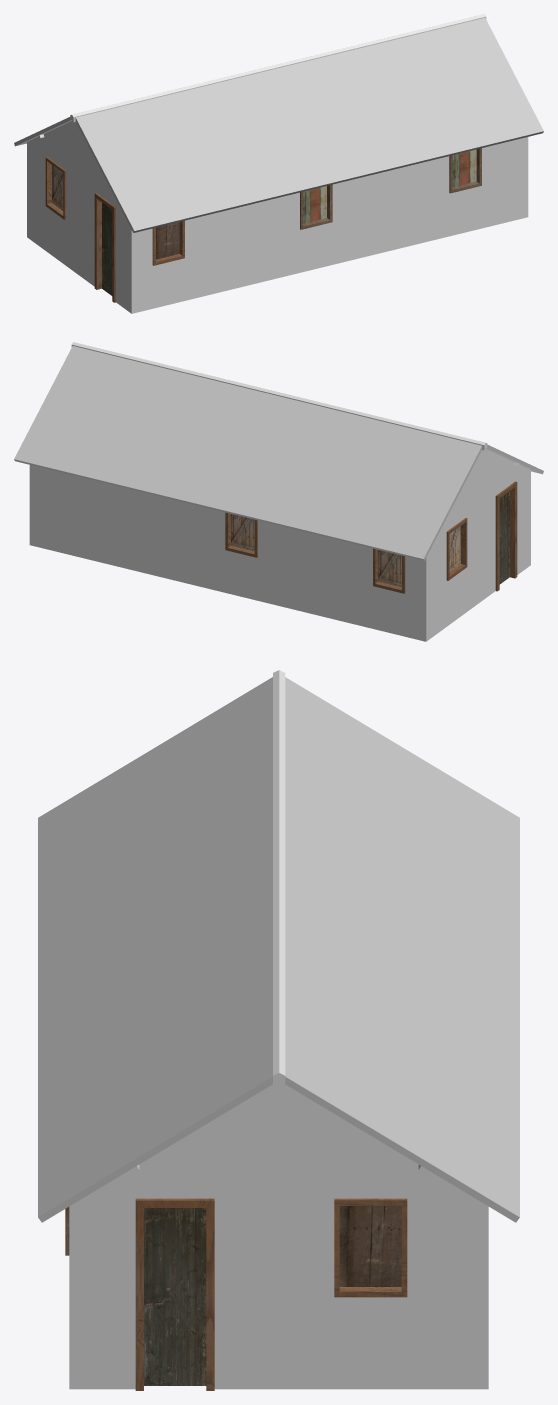
The model's file is 14_casa.fbx.
3 views of the same model, one above another, from view 1: azimuth 30°, elevation 25°; view 2: azimuth 150°, elevation 25°; view 3: azimuth 270°, elevation 25° (orthographic). The views are drawn at different scales.
Parts seen in each view (by area): view 1: telhado, 14_casa_LOD0; view 2: telhado, 14_casa_LOD0; view 3: telhado, 14_casa_LOD0.
Boxes of the visible parts, bbox=[...] form: telhado: bbox=[14, 18, 543, 232]; 14_casa_LOD0: bbox=[27, 14, 528, 313]; telhado: bbox=[14, 346, 543, 560]; 14_casa_LOD0: bbox=[29, 342, 530, 641]; telhado: bbox=[38, 677, 519, 1222]; 14_casa_LOD0: bbox=[65, 670, 488, 1390].
Size of what is drawn, in the model's own units: 995 by 374 by 503.
